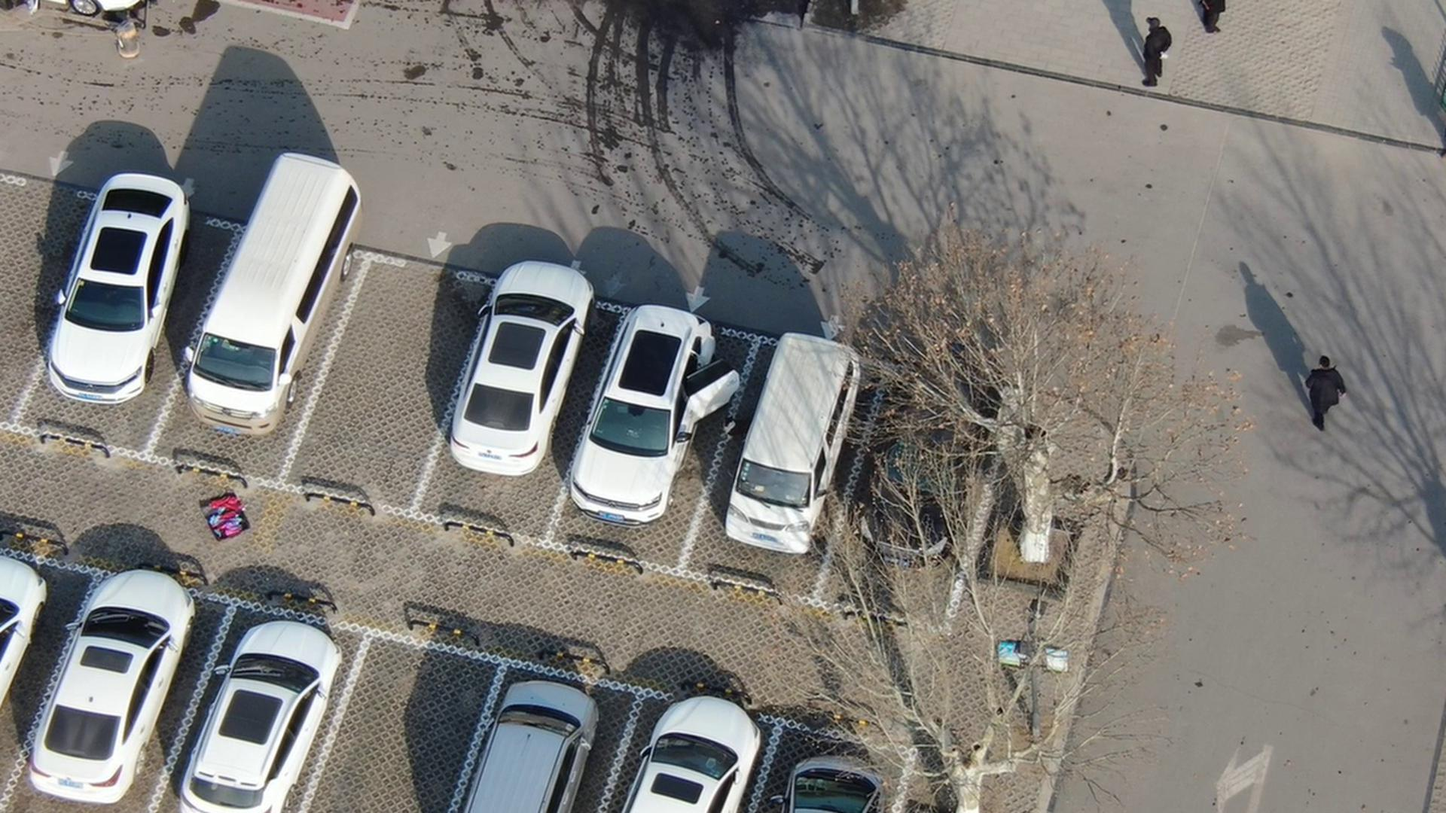human: (1299, 349, 1348, 443), (1131, 13, 1176, 98)
